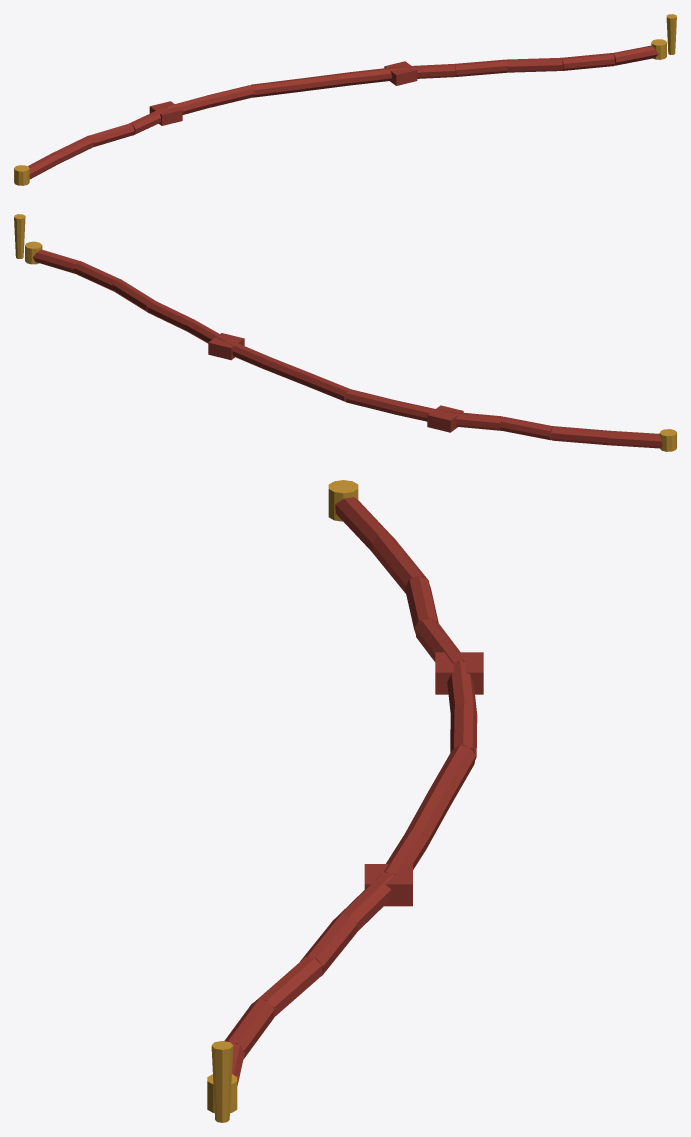
Rendered from hose_line.glb.
The picture shows the model from 3 angles, top to bottom: view 1: azimuth 30°, elevation 25°; view 2: azimuth 150°, elevation 25°; view 3: azimuth 270°, elevation 25°; orthographic projection. The views are drawn at different scales.
Visible parts, largest first — view 1: hose_line; view 2: hose_line; view 3: hose_line.
Part boxes in pixels (x1,y1,x2,y2): hose_line: [14, 14, 676, 185]; hose_line: [14, 214, 676, 451]; hose_line: [207, 480, 483, 1122].
Size of what is drawn, in the model's own units: 6.03 by 0.34 by 1.14.
1 material, 1 textured.
